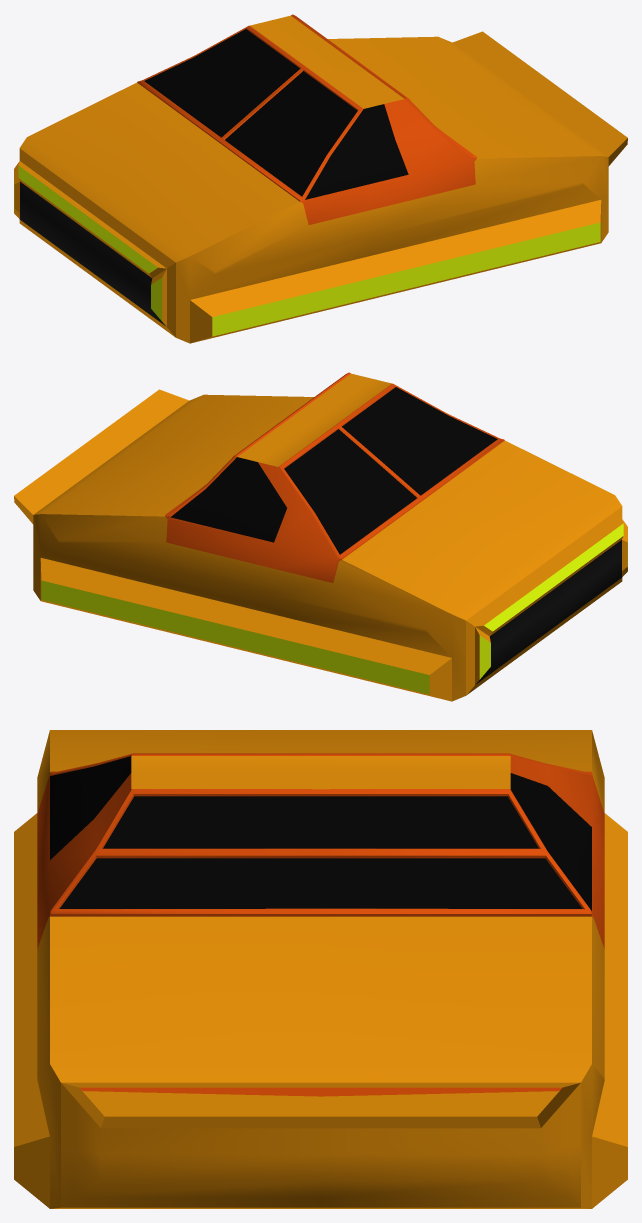
The model's file is NAVE.FBX.
The picture shows the model from 3 angles, top to bottom: view 1: azimuth 30°, elevation 25°; view 2: azimuth 150°, elevation 25°; view 3: azimuth 270°, elevation 25°; orthographic projection. The views are drawn at different scales.
Visible parts, largest first — view 1: Box001; view 2: Box001; view 3: Box001.
Part boxes in pixels (x1=…): Box001: x1=14, y1=14, x2=627, y2=343; Box001: x1=14, y1=372, x2=627, y2=701; Box001: x1=14, y1=730, x2=627, y2=1208.
Size of the model in its own units: 224 by 75.47 by 149.
